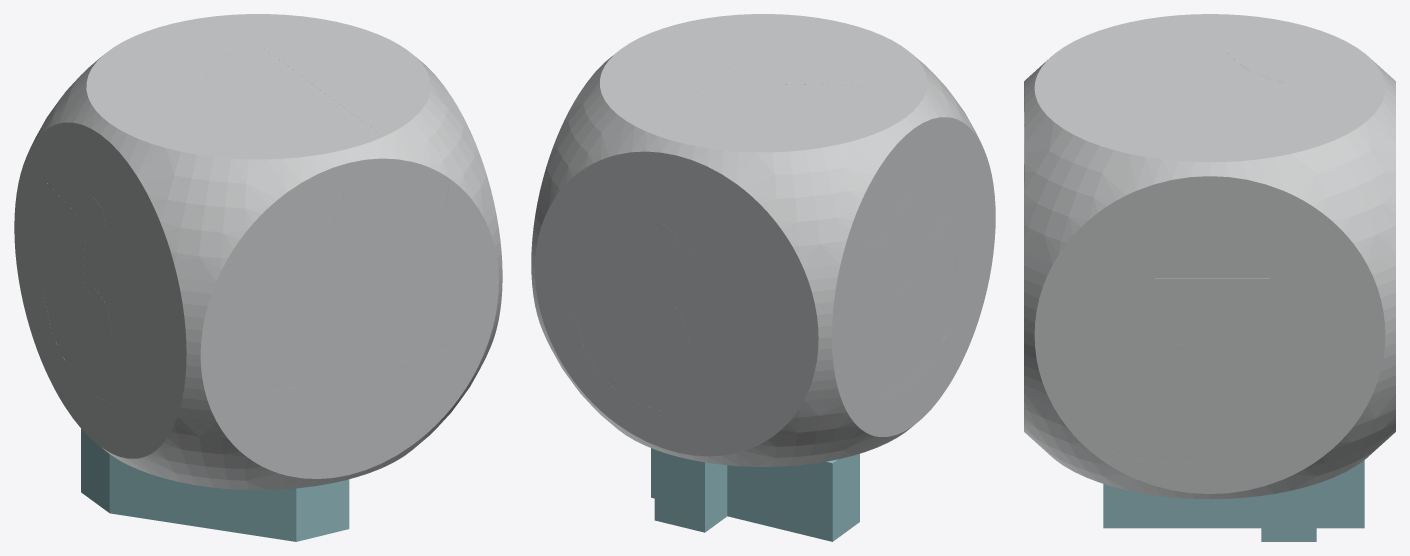
The model's file is die.glb.
3 views of the same model, side by side, from view 1: azimuth 30°, elevation 25°; view 2: azimuth 150°, elevation 25°; view 3: azimuth 270°, elevation 25° (orthographic). The views are drawn at different scales.
Parts seen in each view (by area): view 1: Mesh_Mesh_head_geo.001_lambert2SG.001; view 2: Mesh_Mesh_head_geo.001_lambert2SG.001; view 3: Mesh_Mesh_head_geo.001_lambert2SG.001.
Boxes of the visible parts, left/top/right/bottom form: Mesh_Mesh_head_geo.001_lambert2SG.001: left=14, top=14, right=502, bottom=541; Mesh_Mesh_head_geo.001_lambert2SG.001: left=531, top=14, right=995, bottom=541; Mesh_Mesh_head_geo.001_lambert2SG.001: left=1024, top=14, right=1395, bottom=541.
Size of the model in its own units: 16 by 20 by 16.
